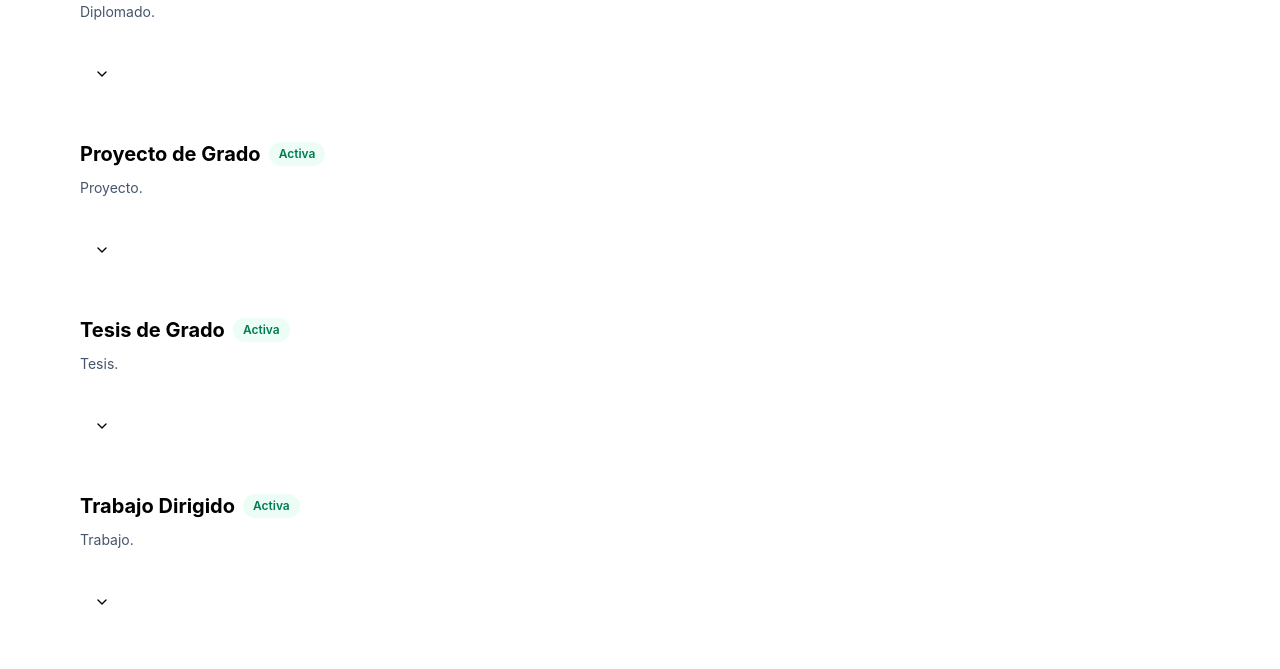
inicia contraído, permite teclado y clic, y mantiene solo una modalidad expandida
Later steps or results of the test are not shown.
(page scrolled)
Press Enter
(page scrolled)
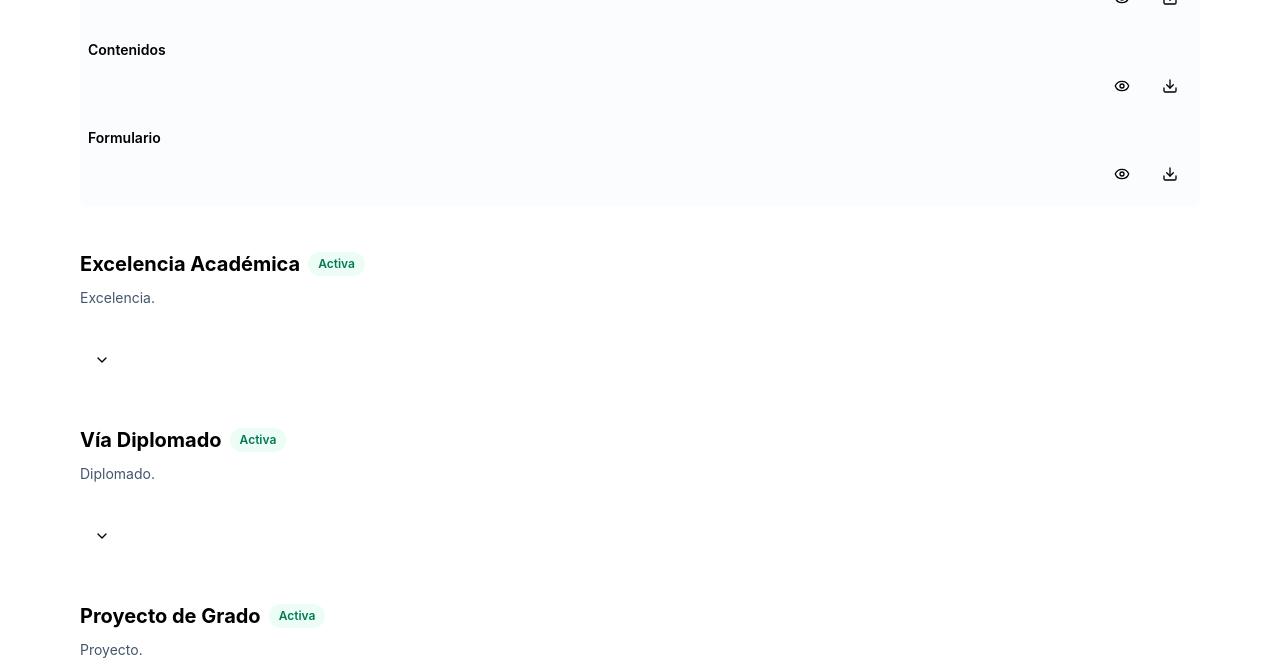
Expected: the text "Formulario" is shown, [88,129,161,146]
Click the button named "Documentos oficiales (3)" below "Excelencia." at (102, 360), box [80,338,124,382]
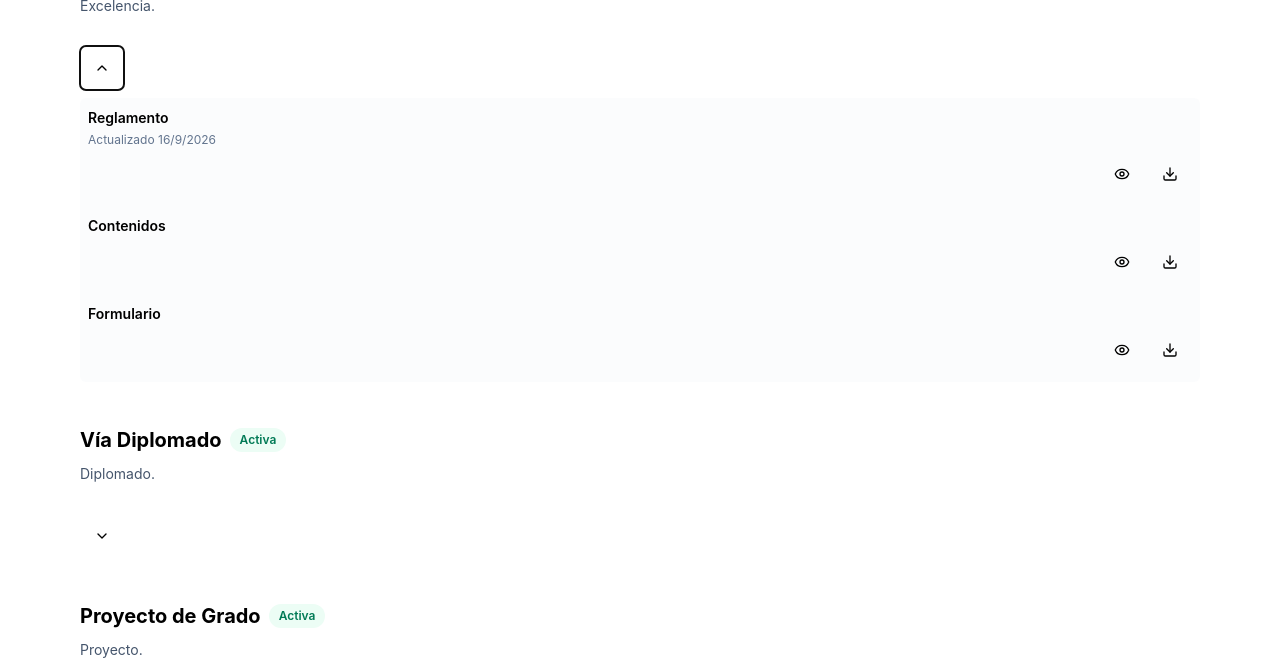
Expected: the button named "Documentos oficiales (3)" below "Excelencia." is expanded, [80,46,124,90]
